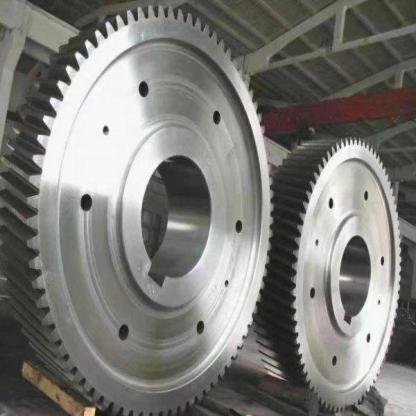FOD: (0, 3, 278, 415), (254, 130, 406, 415)
